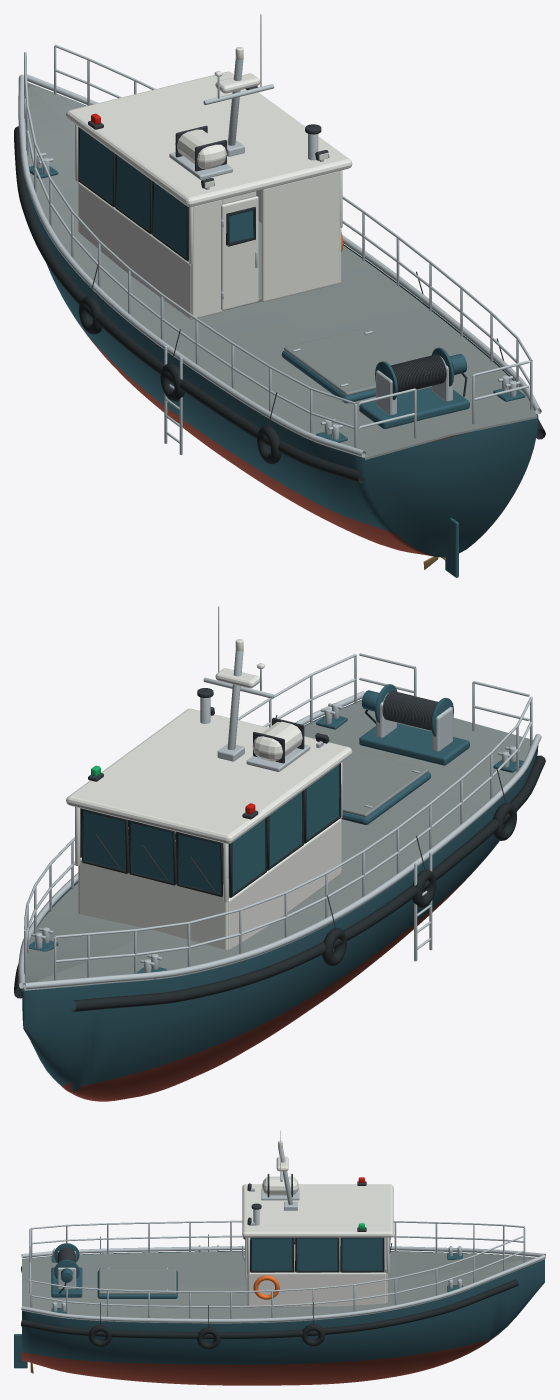
The model's file is coastal_workboat.glb.
The picture shows the model from 3 angles, top to bottom: view 1: azimuth 30°, elevation 25°; view 2: azimuth 150°, elevation 25°; view 3: azimuth 270°, elevation 25°; orthographic projection. The views are drawn at different scales.
Parts seen in each view (by area): view 1: Cambered non-slip main deck, 14m rounded steel hull, Rounded wheelhouse roof, Aft bulkhead starboard, Wheelhouse lower side, Heavy rubber rubbing strake, Flush hatch lid, Continuous gunwale, Aft bulkhead port, Watertight entry door, Winch welded skid, Continuous gunwale.001 (+11 smaller); view 2: 14m rounded steel hull, Cambered non-slip main deck, Rounded wheelhouse roof, Wheelhouse forward sill, Heavy rubber rubbing strake, Wheelhouse lower side, Continuous gunwale, Flush hatch lid, Winch welded skid, Forward windscreen 1, Forward windscreen 2, Forward windscreen 3 (+18 smaller); view 3: 14m rounded steel hull, Cambered non-slip main deck, Rounded wheelhouse roof, Wheelhouse lower side.001, Heavy rubber rubbing strake.001, Continuous gunwale.001, Flush hatch lid, Continuous gunwale, Side bridge glass.003, Side bridge glass.004, Side bridge glass.005, Swept safety rail.003 (+14 smaller).
Boxes of the visible parts, <box> form: Cambered non-slip main deck: <box>25,82,537,459</box>; 14m rounded steel hull: <box>26,95,538,557</box>; Rounded wheelhouse roof: <box>66,71,352,206</box>; Aft bulkhead starboard: <box>261,171,339,301</box>; Wheelhouse lower side: <box>78,182,192,319</box>; Heavy rubber rubbing strake: <box>14,126,364,483</box>; Flush hatch lid: <box>284,328,410,395</box>; Continuous gunwale: <box>18,74,365,457</box>; Aft bulkhead port: <box>191,199,222,319</box>; Watertight entry door: <box>221,196,258,310</box>; Winch welded skid: <box>359,387,469,428</box>; Continuous gunwale.001: <box>27,74,541,414</box>; 14m rounded steel hull: <box>22,699,538,1101</box>; Cambered non-slip main deck: <box>22,700,533,991</box>; Rounded wheelhouse roof: <box>66,708,352,843</box>; Wheelhouse forward sill: <box>78,857,227,949</box>; Heavy rubber rubbing strake: <box>71,755,545,1011</box>; Wheelhouse lower side: <box>228,818,341,949</box>; Continuous gunwale: <box>23,734,541,989</box>; Flush hatch lid: <box>342,750,428,817</box>; Winch welded skid: <box>359,723,469,765</box>; Forward windscreen 1: <box>178,834,221,893</box>; Forward windscreen 2: <box>130,823,173,881</box>; Forward windscreen 3: <box>83,811,125,869</box>; 14m rounded steel hull: <box>22,1251,544,1385</box>; Cambered non-slip main deck: <box>22,1251,544,1323</box>; Rounded wheelhouse roof: <box>242,1184,393,1237</box>; Wheelhouse lower side.001: <box>248,1272,385,1307</box>; Heavy rubber rubbing strake.001: <box>21,1279,518,1339</box>; Continuous gunwale.001: <box>21,1254,545,1322</box>; Flush hatch lid: <box>99,1268,176,1294</box>; Continuous gunwale: <box>21,1246,545,1257</box>; Side bridge glass.003: <box>251,1238,292,1270</box>; Side bridge glass.004: <box>297,1238,337,1270</box>; Side bridge glass.005: <box>342,1238,382,1270</box>; Swept safety rail.003: <box>31,1235,524,1292</box>.
Bounding box in the file's own units: 4.92 × 7.65 × 14.24.
